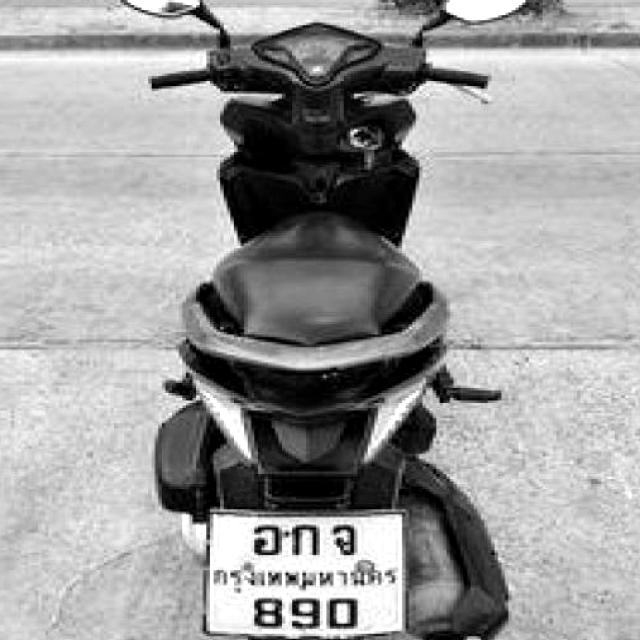letters: (326, 595, 366, 633), (242, 524, 285, 558), (248, 594, 288, 630), (292, 521, 324, 558), (294, 594, 320, 629), (333, 527, 360, 558)
license-plate: (209, 510, 408, 638)
province: (210, 561, 408, 596)
